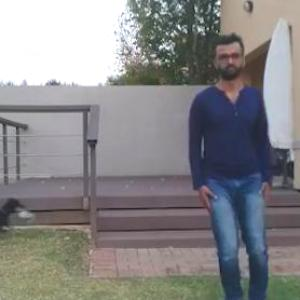follow: (175, 26, 277, 299)
